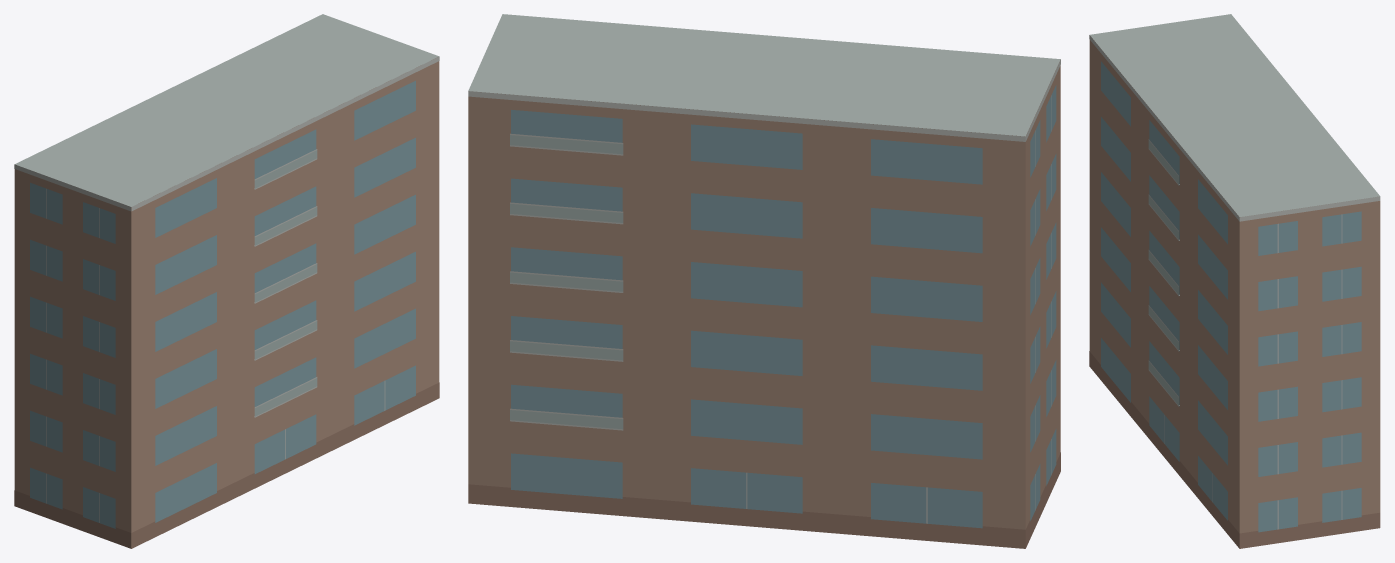
The model's file is survey-upis-32971135.glb.
3 renders of one model, left to right at view 1: azimuth 30°, elevation 25°; view 2: azimuth 150°, elevation 25°; view 3: azimuth 270°, elevation 25°, orthographic. The views are drawn at different scales.
Visible parts, largest first — view 1: survey-upis-32971135.tmp; view 2: survey-upis-32971135.tmp; view 3: survey-upis-32971135.tmp.
Boxes of the visible parts, left/top/right/bottom form: survey-upis-32971135.tmp: left=14, top=14, right=439, bottom=548; survey-upis-32971135.tmp: left=468, top=14, right=1060, bottom=548; survey-upis-32971135.tmp: left=1089, top=14, right=1380, bottom=548.
Bounding box in the file's own units: 24.06 × 18.3 × 14.56.
